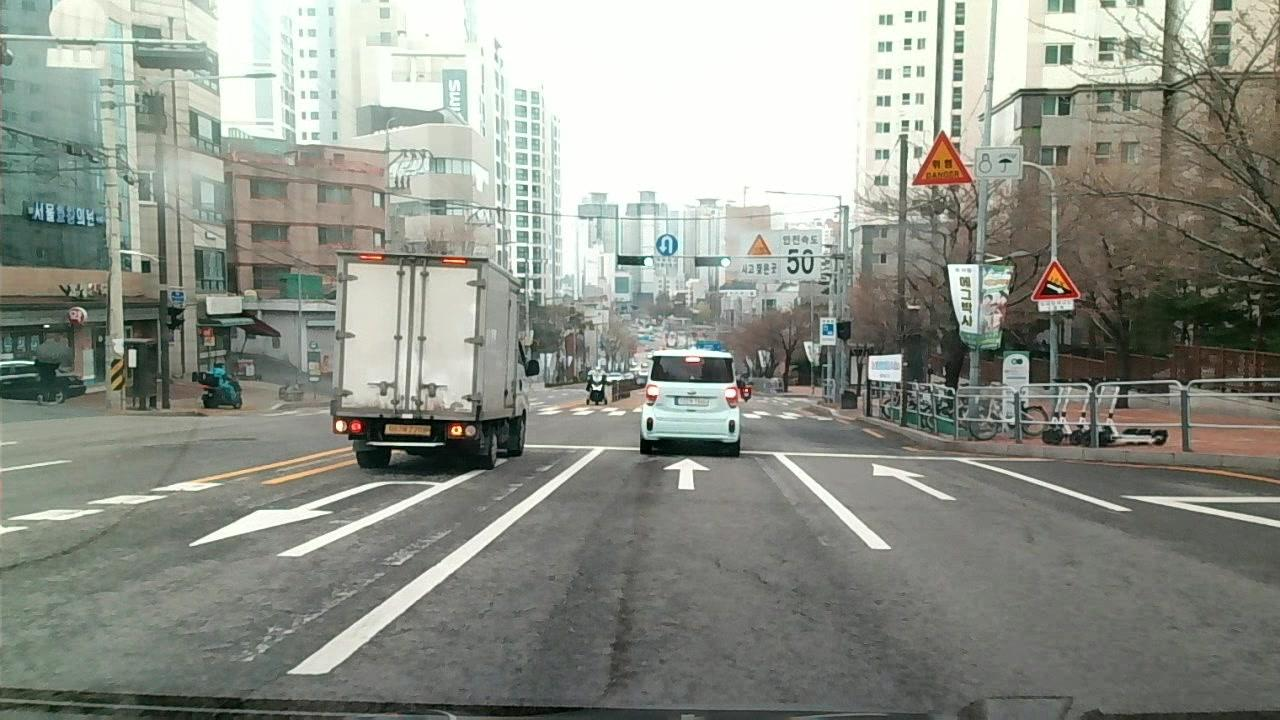vcrack: (236, 571, 388, 660), (598, 521, 638, 701), (523, 540, 583, 651), (387, 514, 464, 566), (705, 552, 774, 587)
